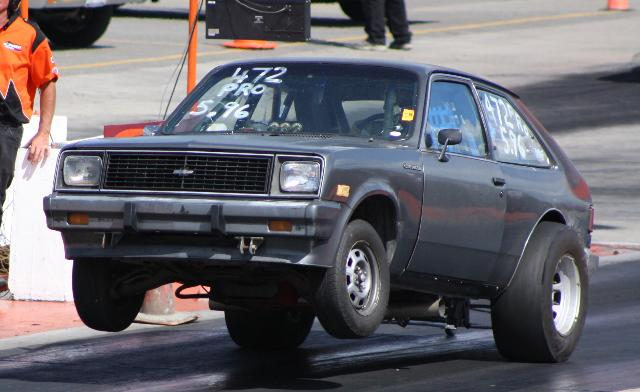chevette-1983: (43, 58, 598, 362)
